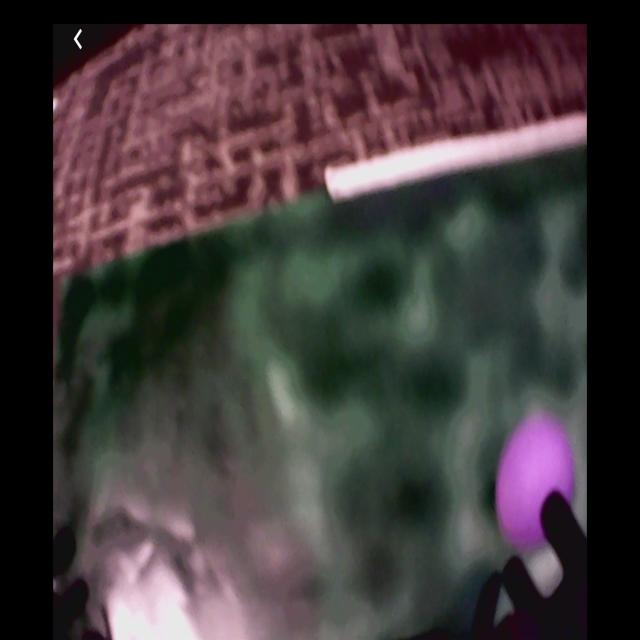ball: (498, 409, 575, 553)
